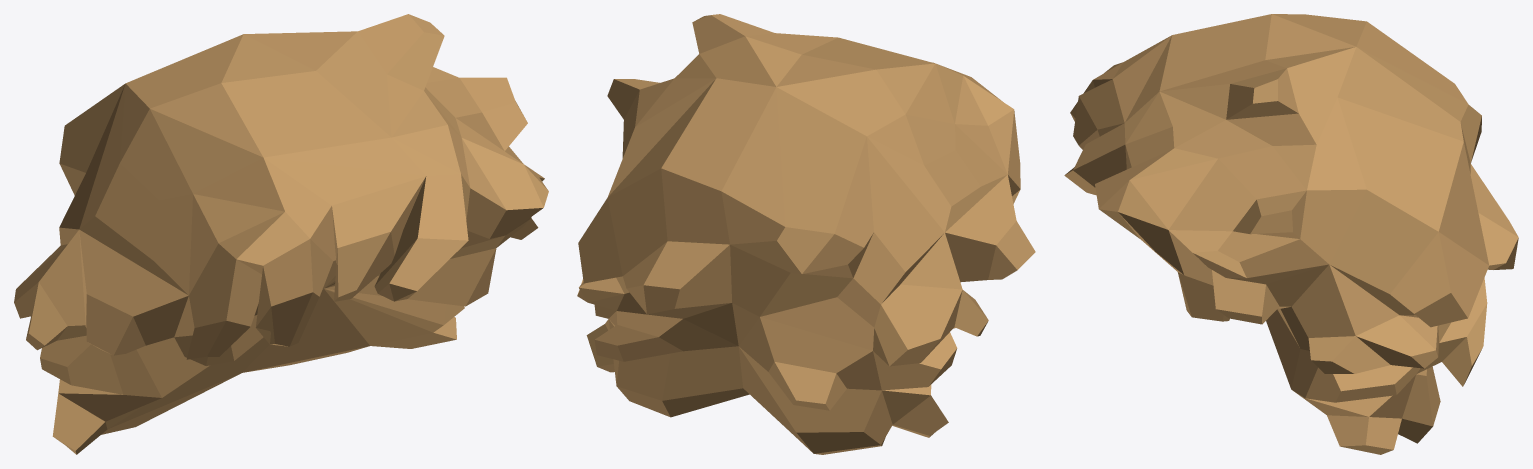
Rendered from SM_Chr_Attach_Hair_01.fbx.
The picture shows the model from 3 angles, left to right: view 1: azimuth 30°, elevation 25°; view 2: azimuth 150°, elevation 25°; view 3: azimuth 270°, elevation 25°; orthographic projection. The views are drawn at different scales.
Visible parts, largest first — view 1: SM_Chr_Attach_Hair_01; view 2: SM_Chr_Attach_Hair_01; view 3: SM_Chr_Attach_Hair_01.
Boxes of the visible parts, x1,y1,x2,y2 form: SM_Chr_Attach_Hair_01: (14, 14, 548, 454); SM_Chr_Attach_Hair_01: (577, 14, 1035, 454); SM_Chr_Attach_Hair_01: (1064, 14, 1518, 454).
Bounding box in the file's own units: 33.27 × 28.34 × 31.5.
Materials: 1 (1 with a texture image).
